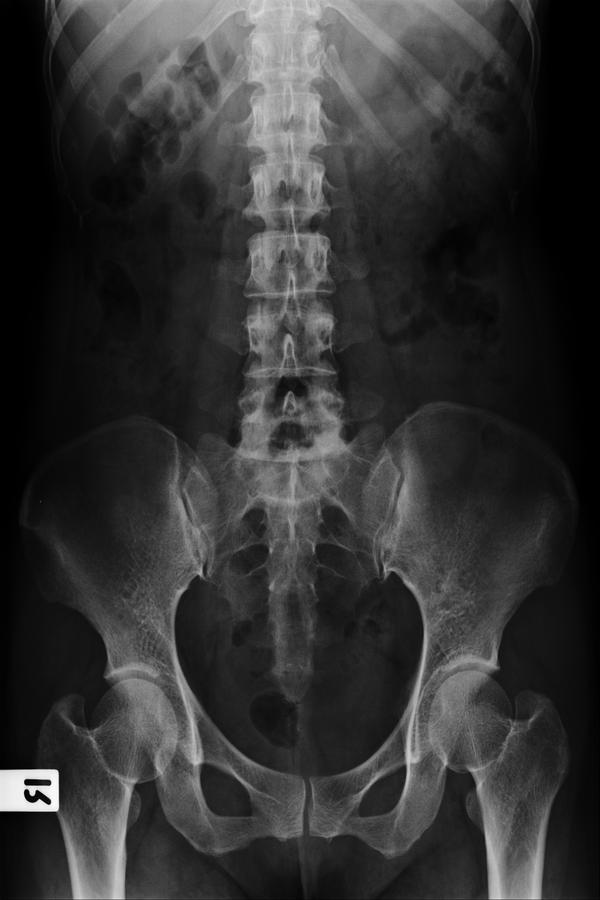not lumbar scoliosis: (230, 164, 341, 500)
